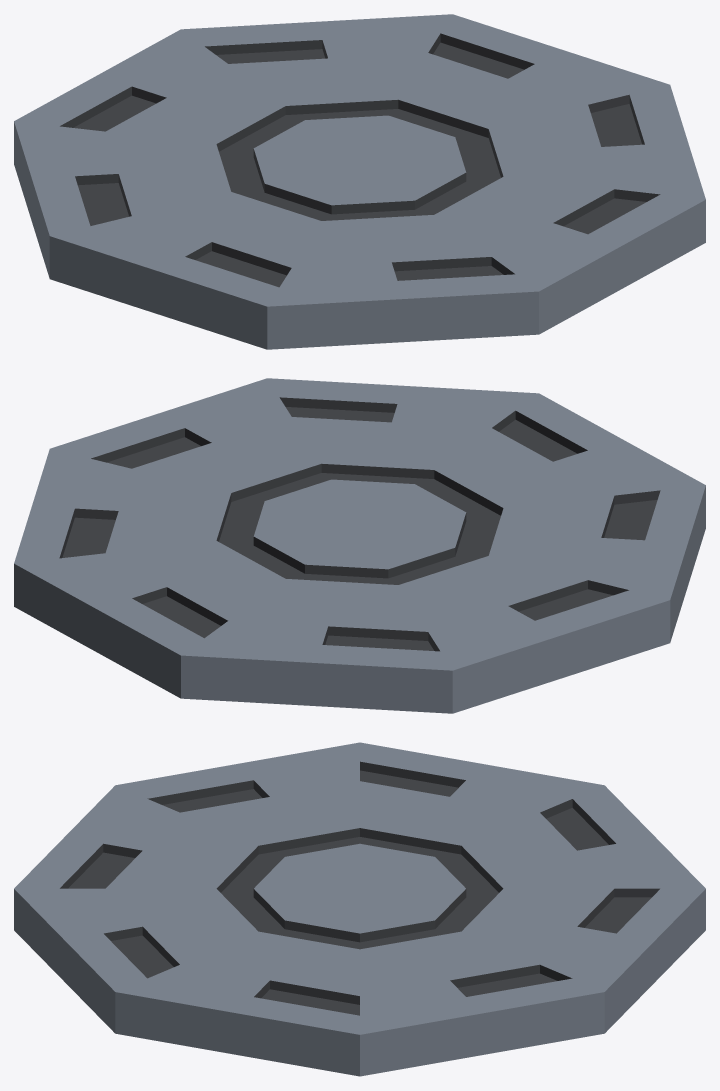
Rendered from Road_Objects_Manhole_Cover.fbx.
3 views of the same model, one above another, from view 1: azimuth 30°, elevation 25°; view 2: azimuth 150°, elevation 25°; view 3: azimuth 270°, elevation 25° (orthographic). The views are drawn at different scales.
Visible parts, largest first — view 1: Road_Objects_Manhole_Cover; view 2: Road_Objects_Manhole_Cover; view 3: Road_Objects_Manhole_Cover.
Part boxes in pixels (box(x1,y1,x2,y2)): Road_Objects_Manhole_Cover: box(14, 14, 705, 349); Road_Objects_Manhole_Cover: box(14, 378, 705, 713); Road_Objects_Manhole_Cover: box(14, 742, 705, 1076).
Bounding box in the file's own units: 87.26 × 5.8 × 87.26.
